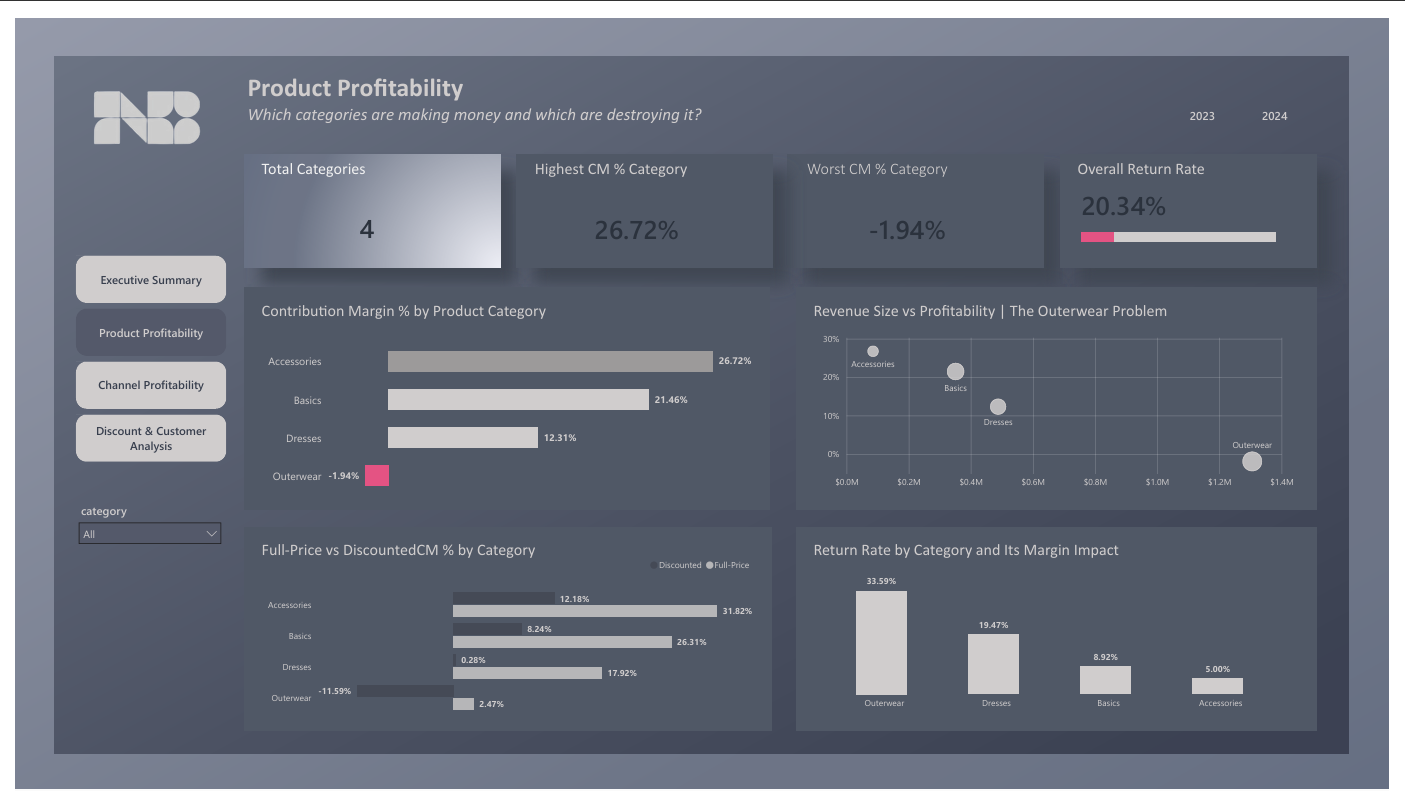

The dashboard page shown, as its layout file describes it:
{"tool":"powerbi","page":{"name":"Product Profitability","canvas":[1920,1080],"ordinal":1},"visuals":[{"type":"clusteredBarChart","fields":{"Category":["dim_products.category"],"Y":["all_measures.cm %"]},"box":[331.6,427,715.5,249.8],"z":0},{"type":"scatterChart","fields":{"Y":["all_measures.cm %"],"Category":["dim_products.category"],"X":["all_measures.gmv"],"Size":["all_measures.total_orders"]},"box":[1112.9,424.7,690.5,252.1],"z":1000},{"type":"clusteredColumnChart","fields":{"Category":["dim_products.category"],"Y":["all_measures.return_rate"]},"box":[1097,754.1,706.4,231.7],"z":2000},{"type":"clusteredBarChart","fields":{"Category":["dim_products.category"],"Y":["all_measures.cm %"],"Series":["fact_orders.order_type"]},"box":[331.6,740.4,715.5,254.4],"z":3000},{"type":"slicer","fields":{"Values":["dim_products.category"]},"box":[84,676.8,209,109],"z":4000},{"type":"hundredPercentStackedBarChart","fields":{"Y":["all_measures.return_rate","all_measures.return_rate_base"]},"box":[1474.1,263.5,304.4,81.8],"z":5000},{"type":"pageNavigator","box":[85.4,331.8,209.8,290.3],"z":6000},{"type":"cardVisual","fields":{"Data":["all_measures.return_rate"]},"box":[1474.1,220.3,152.2,77.2],"z":7000},{"type":"cardVisual","fields":{"Data":["all_measures.worst_category_cm %"]},"box":[1172,252.1,149.9,79.5],"z":8000},{"type":"cardVisual","fields":{"Data":["all_measures.best_category_cm %"]},"box":[792.7,254.4,152.2,77.2],"z":9000},{"type":"cardVisual","fields":{"Data":["all_measures.categories_no"]},"box":[415.6,252.1,152.2,77.2],"z":10000},{"type":"advancedSlicerVisual","fields":{"Values":["dim_date.year"]},"box":[1612.6,115.8,195.3,43.2],"z":11000}]}

Visuals, with their boxes in screenshot pixels (x1, y1, x2, y2), scaled from the page's 1920x1080 canvas onto the 1405x806 screenshot:
clusteredBarChart - dim_products.category x all_measures.cm %: rect(243, 319, 766, 505)
scatterChart - all_measures.cm % x dim_products.category: rect(814, 317, 1320, 505)
clusteredColumnChart - dim_products.category x all_measures.return_rate: rect(803, 563, 1320, 736)
clusteredBarChart - dim_products.category x all_measures.cm %: rect(243, 553, 766, 742)
slicer - dim_products.category: rect(61, 505, 214, 586)
hundredPercentStackedBarChart - all_measures.return_rate x all_measures.return_rate_base: rect(1079, 197, 1301, 258)
pageNavigator: rect(62, 248, 216, 464)
cardVisual - all_measures.return_rate: rect(1079, 164, 1190, 222)
cardVisual - all_measures.worst_category_cm %: rect(858, 188, 967, 247)
cardVisual - all_measures.best_category_cm %: rect(580, 190, 691, 247)
cardVisual - all_measures.categories_no: rect(304, 188, 415, 246)
advancedSlicerVisual - dim_date.year: rect(1180, 86, 1323, 119)
